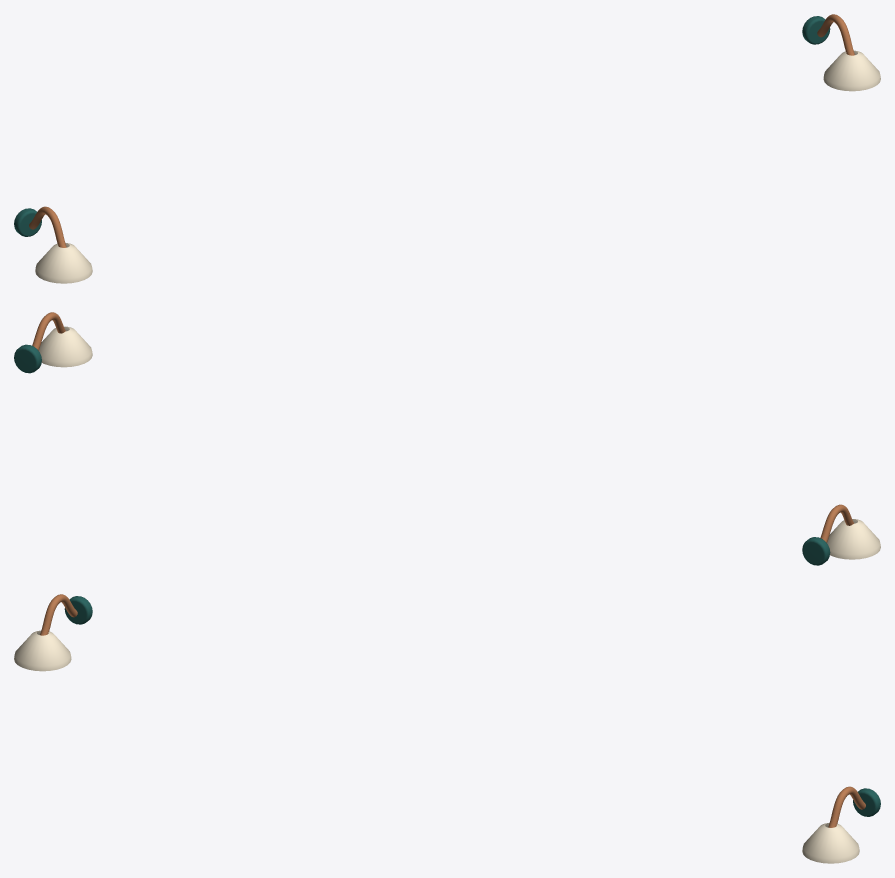
The model's file is workshop_lamps.glb.
3 views of the same model, one above another, from view 1: azimuth 30°, elevation 25°; view 2: azimuth 150°, elevation 25°; view 3: azimuth 330°, elevation 25° (orthographic).
Visible parts, largest first — view 1: workshop_lamps_mesh; view 2: workshop_lamps_mesh; view 3: workshop_lamps_mesh.
Boxes of the visible parts, x1,y1,x2,y2 form: workshop_lamps_mesh: [14, 14, 880, 283]; workshop_lamps_mesh: [14, 312, 880, 565]; workshop_lamps_mesh: [14, 594, 880, 863].
Bounding box in the file's own units: 7.4 × 0.5159 × 0.81.
